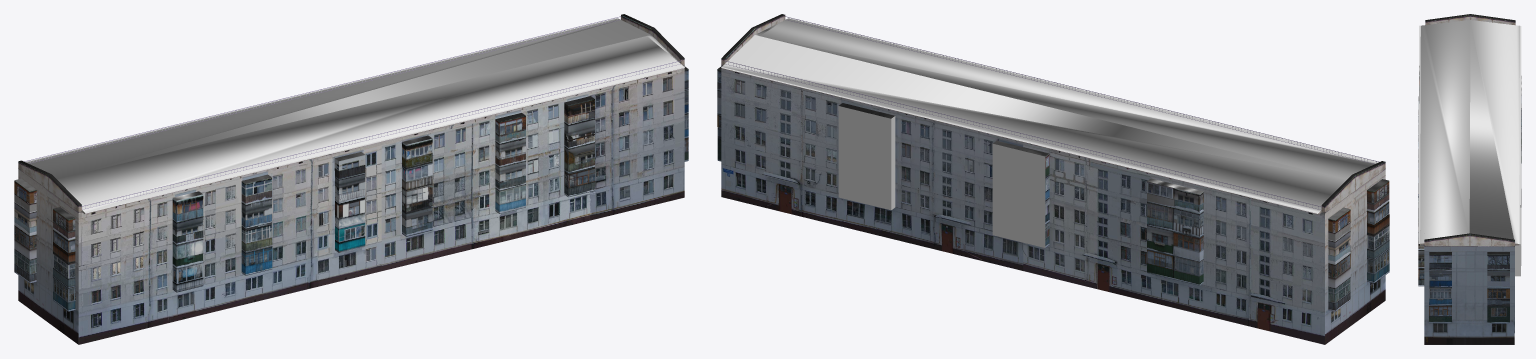
3 renders of one model, left to right at view 1: azimuth 30°, elevation 25°; view 2: azimuth 150°, elevation 25°; view 3: azimuth 270°, elevation 25°, orthographic. The views are drawn at different scales.
Parts seen in each view (by area): view 1: G-Object.183; view 2: G-Object.183; view 3: G-Object.183.
Boxes of the visible parts, box(x1,y1,x2,y2) form: G-Object.183: box(14, 14, 688, 344); G-Object.183: box(717, 14, 1389, 344); G-Object.183: box(1418, 14, 1521, 344).
Size of the model in its own units: 7382 by 1681 by 1427.
Materials: 24 (23 with a texture image).
